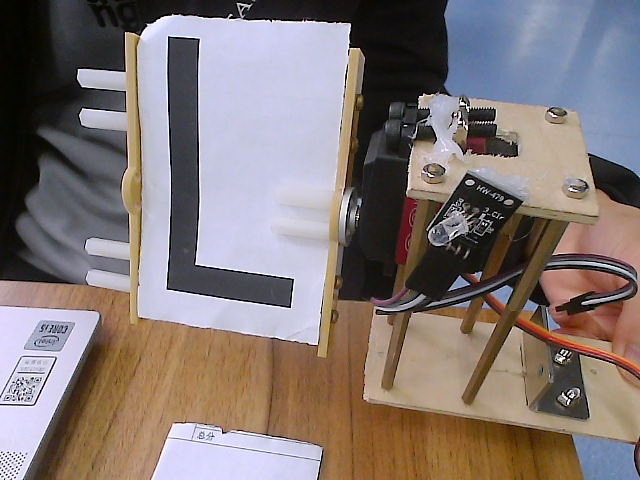L: (67, 4, 412, 360)
